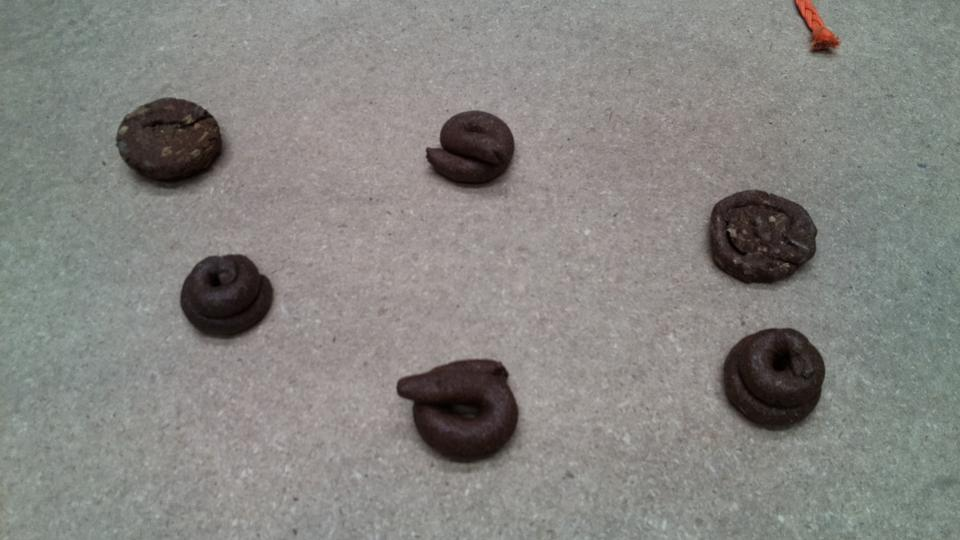poop: (391, 354, 523, 468), (720, 324, 832, 434), (701, 185, 821, 287), (111, 93, 227, 189), (176, 250, 279, 344), (423, 108, 517, 191)
rope: (791, 1, 842, 55)
